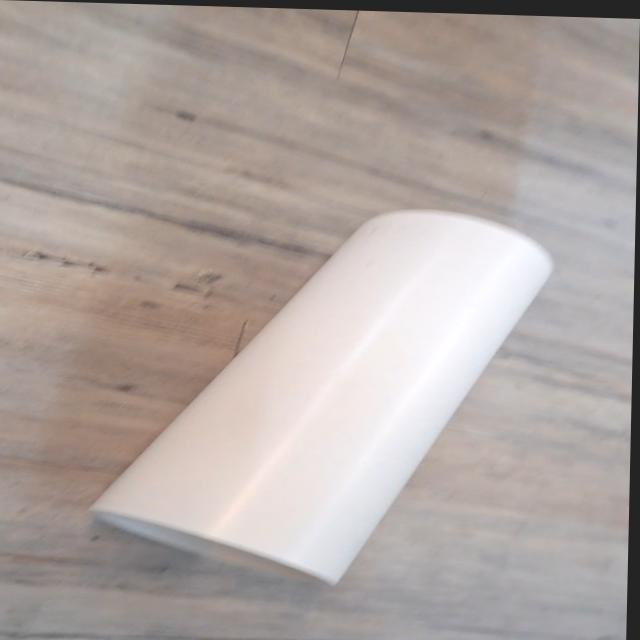CORAL: (50, 189, 573, 598)
